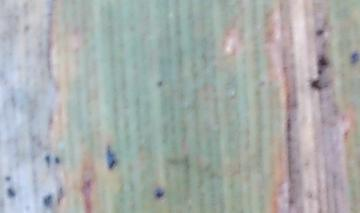tarspot: (103, 144, 119, 171), (314, 52, 330, 68), (41, 191, 54, 210), (55, 186, 65, 207), (309, 77, 322, 91), (154, 186, 166, 200), (349, 50, 360, 65), (182, 154, 191, 170), (5, 186, 16, 198), (341, 129, 352, 140), (43, 153, 51, 167), (314, 27, 325, 37), (84, 178, 93, 190), (332, 101, 339, 116), (288, 196, 296, 208), (29, 133, 36, 144), (156, 80, 165, 88), (47, 116, 56, 124), (316, 68, 325, 76), (303, 159, 311, 168), (54, 155, 61, 165), (36, 138, 42, 149), (4, 174, 12, 182), (9, 94, 17, 102), (24, 203, 32, 211), (23, 23, 30, 32), (331, 171, 338, 180), (306, 190, 312, 200), (36, 39, 43, 47), (260, 78, 266, 87), (46, 11, 52, 18)
